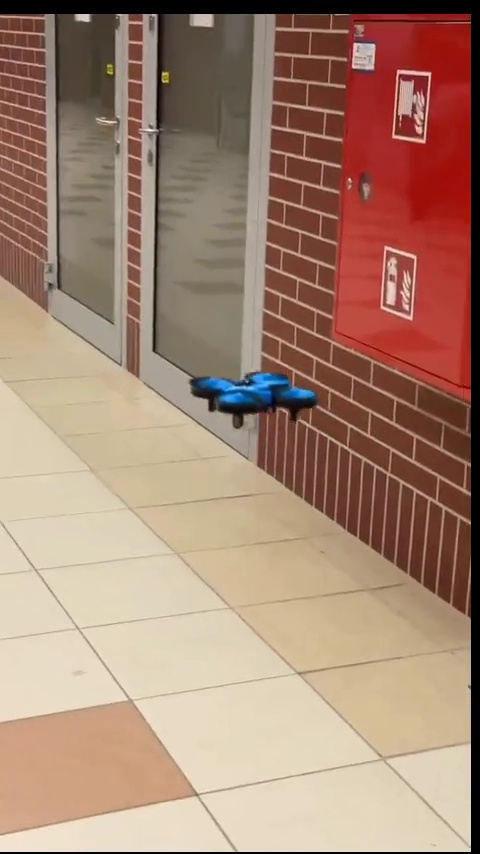drone: (181, 367, 329, 431)
